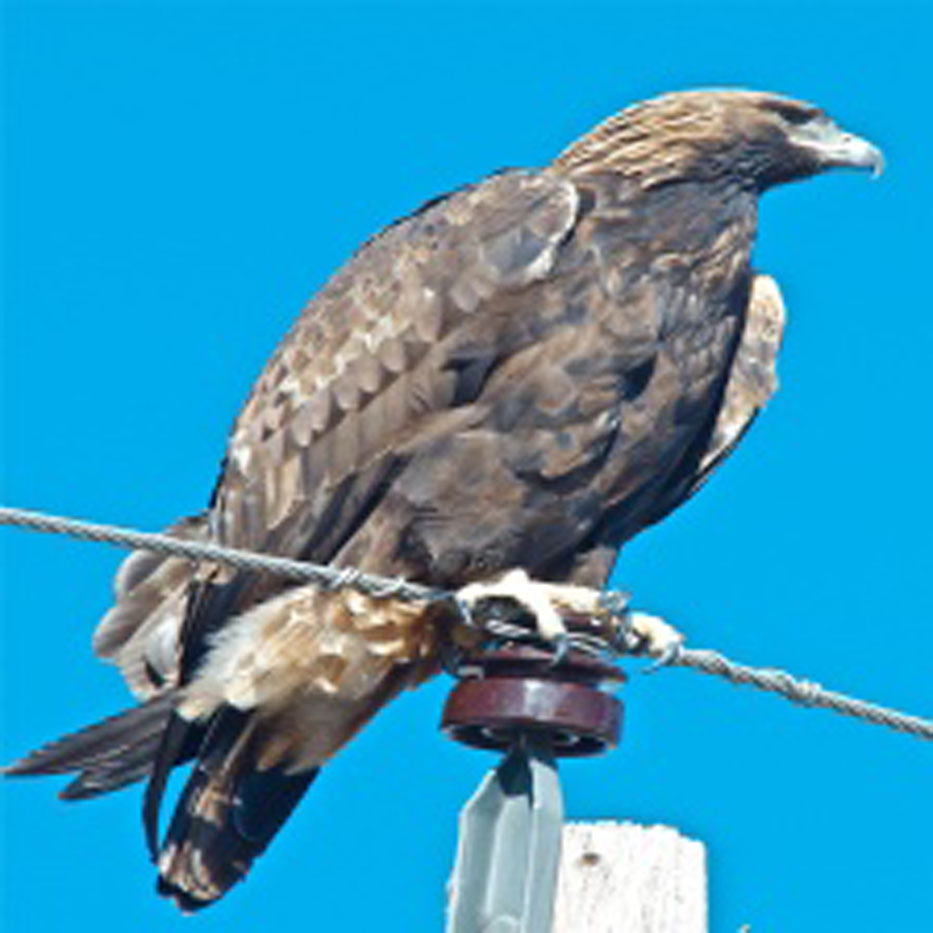Pengoyak Daging: (816, 136, 899, 181)
